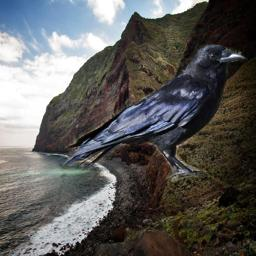Crow: (61, 40, 248, 184)
